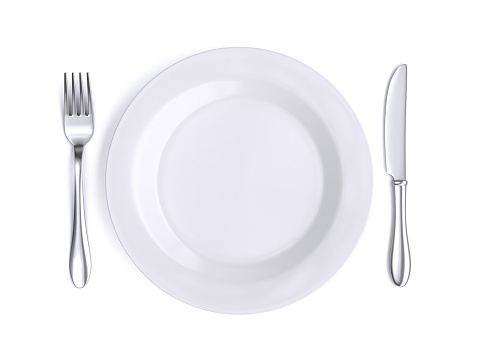knife: (380, 56, 414, 287)
